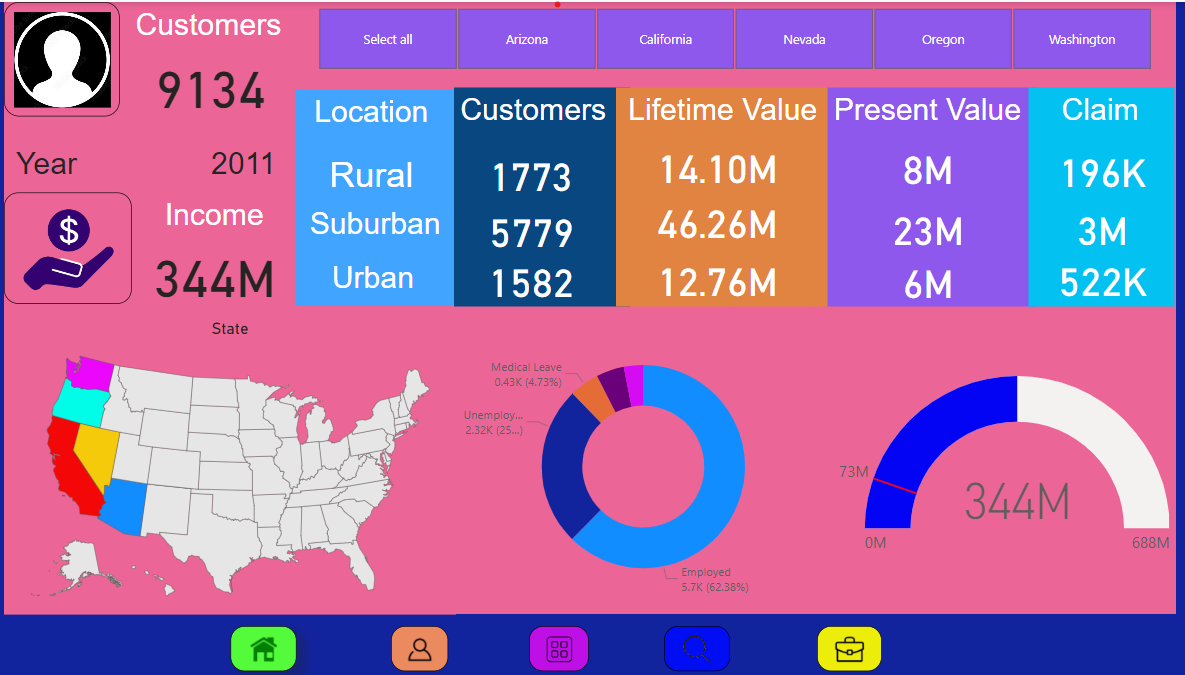

The page's visual inventory and layout, read from the dashboard file:
{"tool":"powerbi","page":{"name":"Customers","canvas":[1280,720],"ordinal":1},"visuals":[{"type":"group","id":"g1","title":"Group 2","box":[19.1,0,309.3,121.4],"z":0,"group":"g9"},{"type":"card","fields":{"Values":["Count(Final Customet Lifetime Value.Customer)"]},"box":[147.6,51.9,179.7,68],"z":0,"group":"g13"},{"type":"textbox","box":[1119,90.7,126.3,48.3],"z":0,"group":"g10"},{"type":"group","id":"g2","title":"Group 10","box":[328.4,92.3,168.4,228.3],"z":0,"group":"g18"},{"type":"card","fields":{"Values":["Sum(Final Customet Lifetime Value.Total Claim Amount)"]},"box":[1105.6,144.4,155.4,65],"z":0,"group":"g4"},{"type":"card","fields":{"Values":["Sum(Final Customet Lifetime Value.Customer Lifetime Value)"]},"box":[668.4,144.6,213.8,60.4],"z":0,"group":"g16"},{"type":"textbox","box":[154.6,202.5,175.4,51.4],"z":0,"group":"g5"},{"type":"card","fields":{"Values":["Sum(Final Customet Lifetime Value.Present Value of Customer)"]},"box":[893.5,270,212.1,52.3],"z":0,"group":"g17"},{"type":"image","box":[881.2,661.7,68.4,47.7],"z":0,"group":"g11"},{"type":"textbox","box":[153,0,175.4,51.8],"z":7,"group":"g13"},{"type":"slicer","fields":{"Values":["Final Customet Lifetime Value.State"]},"box":[328.4,0,931.1,77.7],"z":1000,"group":"g6"},{"type":"group","id":"g3","title":"Group 11","box":[496.8,91.3,186,231],"z":1000,"group":"g18"},{"type":"group","id":"g4","title":"Group 9","box":[1105.6,144.4,155.4,178.2],"z":1000,"group":"g10"},{"type":"card","fields":{"Values":["Sum(Final Customet Lifetime Value.Customer Lifetime Value)"]},"box":[668.4,201.5,213.8,62.1],"z":1000,"group":"g16"},{"type":"group","id":"g5","title":"Group 3","box":[154.6,202.5,175.4,118.1],"z":1000,"group":"g12"},{"type":"card","fields":{"Values":["Sum(Final Customet Lifetime Value.Present Value of Customer)"]},"box":[893.5,209,212.1,61],"z":1000,"group":"g17"},{"type":"card","fields":{"Values":["Sum(Final Customet Lifetime Value.Total Claim Amount)"]},"box":[1105.6,214.4,155.4,48.3],"z":1000,"group":"g4"},{"type":"card","fields":{"Values":["Sum(Final Customet Lifetime Value.Income)"]},"box":[154.6,253.9,175.4,66.8],"z":1000,"group":"g5"},{"type":"shapeMap","title":"State","fields":{"Category":["Final Customet Lifetime Value.State"],"Series":["Final Customet Lifetime Value.State"]},"box":[19.4,335.2,479.3,314.1],"z":1000,"group":"g9"},{"type":"image","box":[719,661.7,70,47.7],"z":1000,"group":"g11"},{"type":"group","id":"g6","title":"Group 16","box":[328.4,0,932.7,322.2],"z":2000,"group":"g9"},{"type":"group","id":"g7","title":"Group 12","box":[668.4,91.3,233.6,231],"z":2000,"group":"g18"},{"type":"card","fields":{"Values":["Sum(Final Customet Lifetime Value.Present Value of Customer)"]},"box":[893.5,144.6,212.1,62.7],"z":2000,"group":"g17"},{"type":"card","fields":{"Values":["Sum(Final Customet Lifetime Value.Total Claim Amount)"]},"box":[1105.6,262.7,155.4,60],"z":2000,"group":"g4"},{"type":"card","fields":{"Values":["Sum(Final Customet Lifetime Value.Customer Lifetime Value)"]},"box":[668.4,267.1,213.8,55.2],"z":2000,"group":"g16"},{"type":"image","box":[429.5,661.7,60.4,47.7],"z":2000,"group":"g11"},{"type":"group","id":"g8","title":"Group 13","box":[893.5,91.3,222.1,231],"z":3000,"group":"g18"},{"type":"card","fields":{"Values":["Count(Final Customet Lifetime Value.Customer)"]},"box":[496.8,152.9,162.1,56.4],"z":3000,"group":"g15"},{"type":"donutChart","fields":{"Category":["Final Customet Lifetime Value.EmploymentStatus"],"Y":["CountNonNull(Final Customet Lifetime Value.Customer)"]},"box":[497.9,335.6,397.7,313.4],"z":3000,"group":"g9"},{"type":"image","box":[575.8,661.7,63.6,47.7],"z":3000,"group":"g11"},{"type":"group","id":"g9","title":"Group 17","box":[19.1,0,1241.9,649.3],"z":4000},{"type":"group","id":"g10","title":"Group 14","box":[1105.6,90.7,155.4,231.5],"z":4000,"group":"g18"},{"type":"textbox","box":[19.1,147.3,301.2,47],"z":4000,"group":"g9"},{"type":"card","fields":{"Values":["Count(Final Customet Lifetime Value.Customer)"]},"box":[496.8,214.3,162.1,51.5],"z":4000,"group":"g15"},{"type":"card","fields":{"Values":["Count(Final Customet Lifetime Value.Customer)"]},"box":[496.8,265.8,162.1,56.4],"z":5000,"group":"g15"},{"type":"gauge","fields":{"Y":["Sum(Final Customet Lifetime Value.Income)"],"TargetValue":["Sum(Final Customet Lifetime Value.Customer Lifetime Value)"]},"box":[893.8,335.2,365.9,314.1],"z":5000,"group":"g9"},{"type":"image","box":[259.3,661.7,70,47.7],"z":5000,"group":"g11"},{"type":"group","id":"g11","title":"Group 18","box":[259.3,661.7,690.3,47.7],"z":5001},{"type":"textbox","box":[328.4,155.4,161.9,58.5],"z":6000,"group":"g14"},{"type":"group","id":"g12","title":"Group 4","box":[19.1,202,310.9,118.6],"z":6000,"group":"g9"},{"type":"textbox","box":[330,210.6,166.8,51.6],"z":7000,"group":"g14"},{"type":"textbox","box":[330,269.1,161.9,51.6],"z":8000,"group":"g14"},{"type":"group","id":"g13","title":"Group 1","box":[147.6,0,180.8,119.9],"z":9000,"group":"g1"},{"type":"textbox","box":[328.4,92.3,161.9,55.1],"z":9005,"group":"g2"},{"type":"textbox","box":[498.3,91.3,184.6,55.1],"z":9006,"group":"g3"},{"type":"textbox","box":[676.9,91.3,225.1,58.3],"z":9008,"group":"g7"},{"type":"image","box":[19.1,0,122.8,121.4],"z":9009,"group":"g1"},{"type":"textbox","box":[895.4,91.3,220.2,50.2],"z":9014,"group":"g8"},{"type":"group","id":"g14","title":"Group 5","box":[328.4,155.4,168.4,165.2],"z":9020,"group":"g2"},{"type":"group","id":"g15","title":"Group 6","box":[496.8,152.9,162.1,169.3],"z":9021,"group":"g3"},{"type":"group","id":"g16","title":"Group 7","box":[668.4,144.6,213.8,177.7],"z":9022,"group":"g7"},{"type":"group","id":"g17","title":"Group 8","box":[893.5,144.6,212.1,177.7],"z":9023,"group":"g8"},{"type":"group","id":"g18","title":"Group 15","box":[328.4,90.7,932.7,231.5],"z":9034,"group":"g6"},{"type":"image","box":[19.1,202,135.2,117.7],"z":9045,"group":"g12"}]}

Visuals, with their boxes in screenshot pixels (x1, y1, x2, y2), scaled from the page's 1280x720 canvas onto the 1185x675 screenshot:
"Group 2" group: {"left": 18, "top": 0, "right": 304, "bottom": 114}
card - Count(Final Customet Lifetime Value.Customer): {"left": 137, "top": 49, "right": 303, "bottom": 112}
textbox: {"left": 1036, "top": 85, "right": 1153, "bottom": 130}
"Group 10" group: {"left": 304, "top": 87, "right": 460, "bottom": 301}
card - Sum(Final Customet Lifetime Value.Total Claim Amount): {"left": 1024, "top": 135, "right": 1167, "bottom": 196}
card - Sum(Final Customet Lifetime Value.Customer Lifetime Value): {"left": 619, "top": 136, "right": 817, "bottom": 192}
textbox: {"left": 143, "top": 190, "right": 306, "bottom": 238}
card - Sum(Final Customet Lifetime Value.Present Value of Customer): {"left": 827, "top": 253, "right": 1024, "bottom": 302}
image: {"left": 816, "top": 620, "right": 879, "bottom": 665}
textbox: {"left": 142, "top": 0, "right": 304, "bottom": 49}
slicer - Final Customet Lifetime Value.State: {"left": 304, "top": 0, "right": 1166, "bottom": 73}
"Group 11" group: {"left": 460, "top": 86, "right": 632, "bottom": 302}
"Group 9" group: {"left": 1024, "top": 135, "right": 1167, "bottom": 302}
card - Sum(Final Customet Lifetime Value.Customer Lifetime Value): {"left": 619, "top": 189, "right": 817, "bottom": 247}
"Group 3" group: {"left": 143, "top": 190, "right": 306, "bottom": 301}
card - Sum(Final Customet Lifetime Value.Present Value of Customer): {"left": 827, "top": 196, "right": 1024, "bottom": 253}
card - Sum(Final Customet Lifetime Value.Total Claim Amount): {"left": 1024, "top": 201, "right": 1167, "bottom": 246}
card - Sum(Final Customet Lifetime Value.Income): {"left": 143, "top": 238, "right": 306, "bottom": 301}
"State" shapeMap: {"left": 18, "top": 314, "right": 462, "bottom": 609}
image: {"left": 666, "top": 620, "right": 730, "bottom": 665}
"Group 16" group: {"left": 304, "top": 0, "right": 1168, "bottom": 302}
"Group 12" group: {"left": 619, "top": 86, "right": 835, "bottom": 302}
card - Sum(Final Customet Lifetime Value.Present Value of Customer): {"left": 827, "top": 136, "right": 1024, "bottom": 194}
card - Sum(Final Customet Lifetime Value.Total Claim Amount): {"left": 1024, "top": 246, "right": 1167, "bottom": 303}
card - Sum(Final Customet Lifetime Value.Customer Lifetime Value): {"left": 619, "top": 250, "right": 817, "bottom": 302}
image: {"left": 398, "top": 620, "right": 454, "bottom": 665}
"Group 13" group: {"left": 827, "top": 86, "right": 1033, "bottom": 302}
card - Count(Final Customet Lifetime Value.Customer): {"left": 460, "top": 143, "right": 610, "bottom": 196}
donutChart - Final Customet Lifetime Value.EmploymentStatus x CountNonNull(Final Customet Lifetime Value.Customer): {"left": 461, "top": 315, "right": 829, "bottom": 608}
image: {"left": 533, "top": 620, "right": 592, "bottom": 665}
"Group 17" group: {"left": 18, "top": 0, "right": 1167, "bottom": 609}
"Group 14" group: {"left": 1024, "top": 85, "right": 1167, "bottom": 302}
textbox: {"left": 18, "top": 138, "right": 297, "bottom": 182}
card - Count(Final Customet Lifetime Value.Customer): {"left": 460, "top": 201, "right": 610, "bottom": 249}
card - Count(Final Customet Lifetime Value.Customer): {"left": 460, "top": 249, "right": 610, "bottom": 302}
gauge - Sum(Final Customet Lifetime Value.Income) x Sum(Final Customet Lifetime Value.Customer Lifetime Value): {"left": 827, "top": 314, "right": 1166, "bottom": 609}
image: {"left": 240, "top": 620, "right": 305, "bottom": 665}
"Group 18" group: {"left": 240, "top": 620, "right": 879, "bottom": 665}
textbox: {"left": 304, "top": 146, "right": 454, "bottom": 201}
"Group 4" group: {"left": 18, "top": 189, "right": 306, "bottom": 301}
textbox: {"left": 306, "top": 197, "right": 460, "bottom": 246}
textbox: {"left": 306, "top": 252, "right": 455, "bottom": 301}
"Group 1" group: {"left": 137, "top": 0, "right": 304, "bottom": 112}
textbox: {"left": 304, "top": 87, "right": 454, "bottom": 138}
textbox: {"left": 461, "top": 86, "right": 632, "bottom": 137}
textbox: {"left": 627, "top": 86, "right": 835, "bottom": 140}
image: {"left": 18, "top": 0, "right": 131, "bottom": 114}
textbox: {"left": 829, "top": 86, "right": 1033, "bottom": 133}
"Group 5" group: {"left": 304, "top": 146, "right": 460, "bottom": 301}
"Group 6" group: {"left": 460, "top": 143, "right": 610, "bottom": 302}
"Group 7" group: {"left": 619, "top": 136, "right": 817, "bottom": 302}
"Group 8" group: {"left": 827, "top": 136, "right": 1024, "bottom": 302}
"Group 15" group: {"left": 304, "top": 85, "right": 1168, "bottom": 302}
image: {"left": 18, "top": 189, "right": 143, "bottom": 300}
